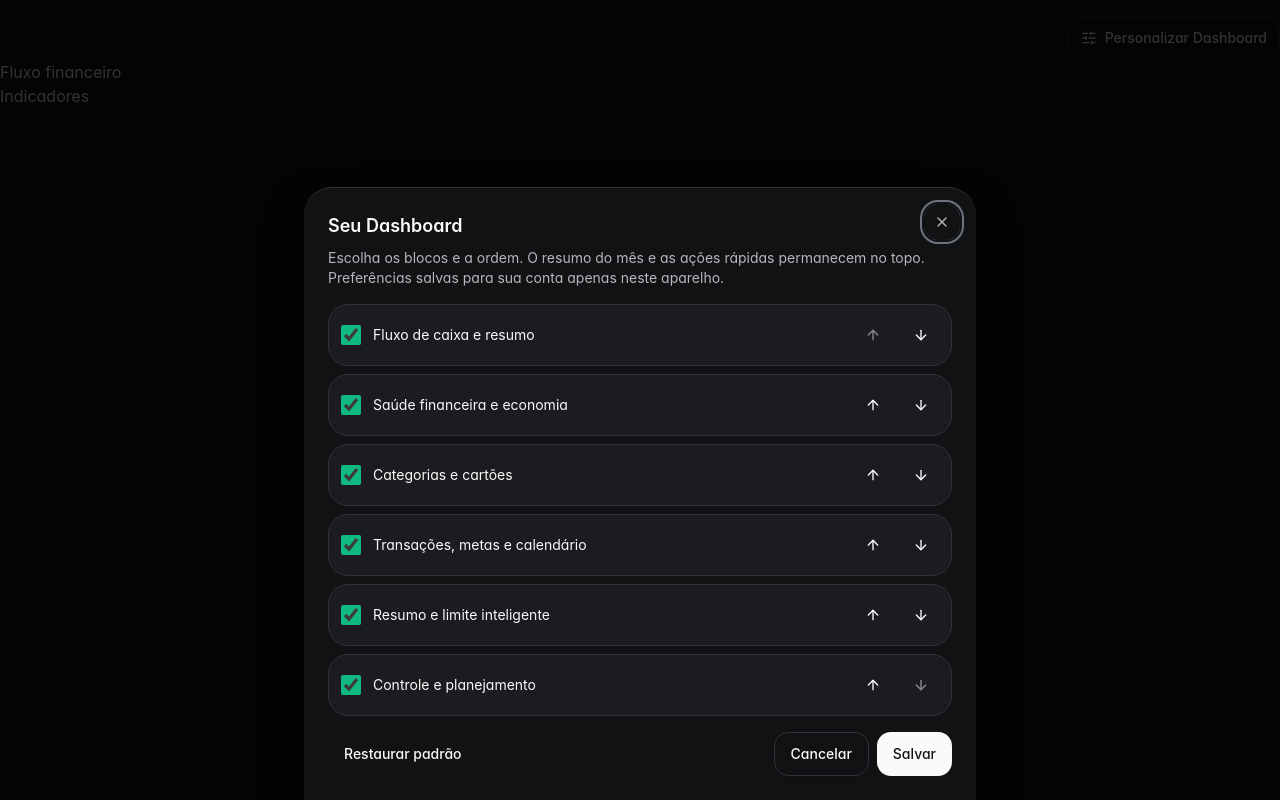
hide, reorder and save survive remount; cancel discards draft
Earlier steps of the test are not shown.
Later steps or results of the test are not shown.
Click the checkbox labelled "Fluxo de caixa e resumo" at coordinates (351, 335), box left=341, top=325, right=361, bottom=345
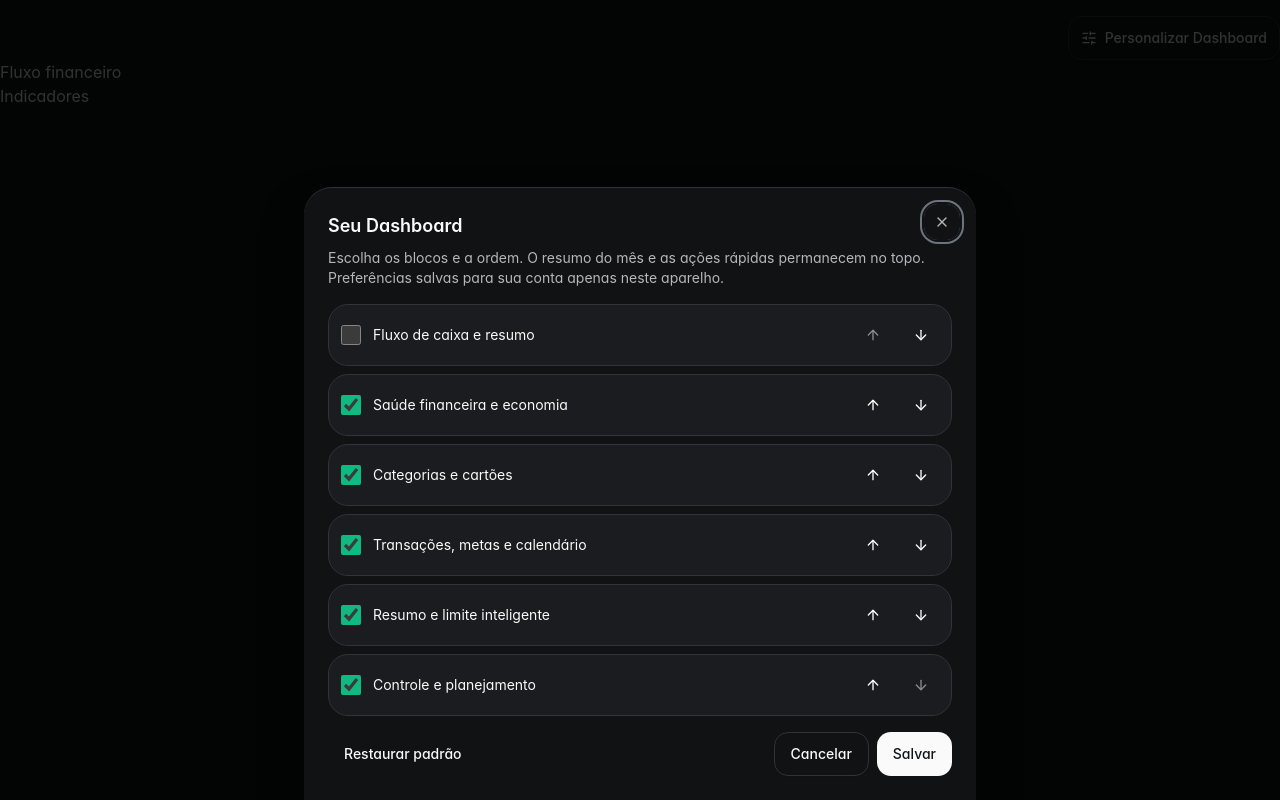
Click the button "Cancelar" at coordinates (821, 754), box left=774, top=732, right=869, bottom=776
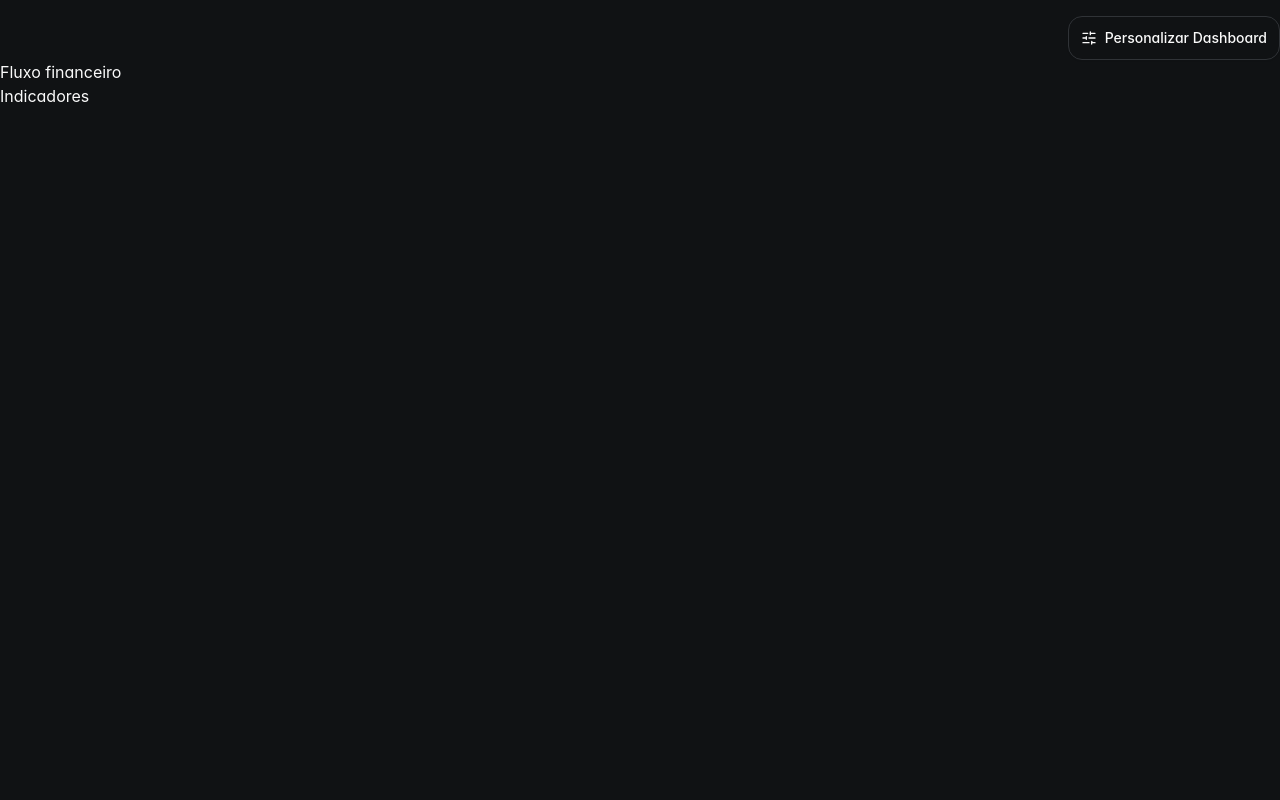
Check: the text "Fluxo financeiro" is shown, box left=0, top=62, right=122, bottom=82
Click the button "Personalizar Dashboard" at coordinates (1174, 38), box left=1068, top=16, right=1279, bottom=60
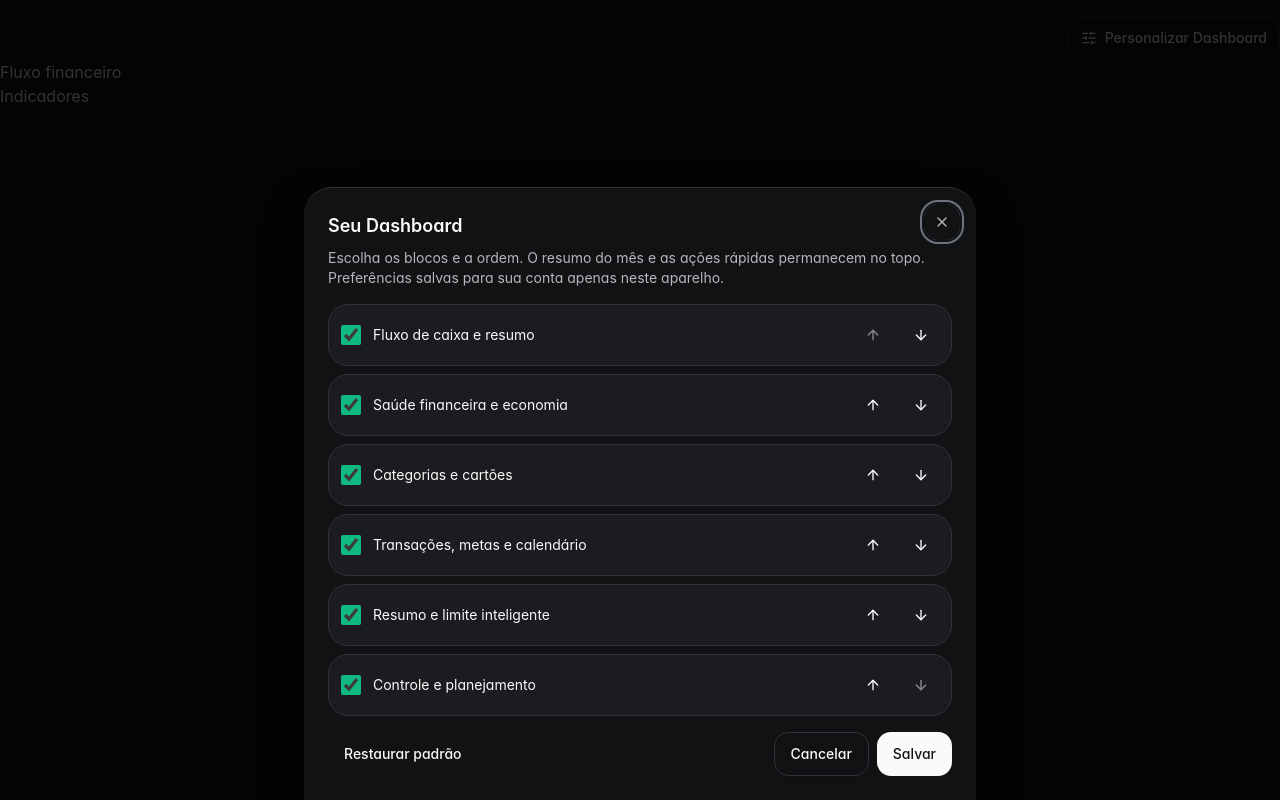
Click the button named "Descer Fluxo de caixa e resumo" at coordinates (921, 335), box left=899, top=313, right=943, bottom=357
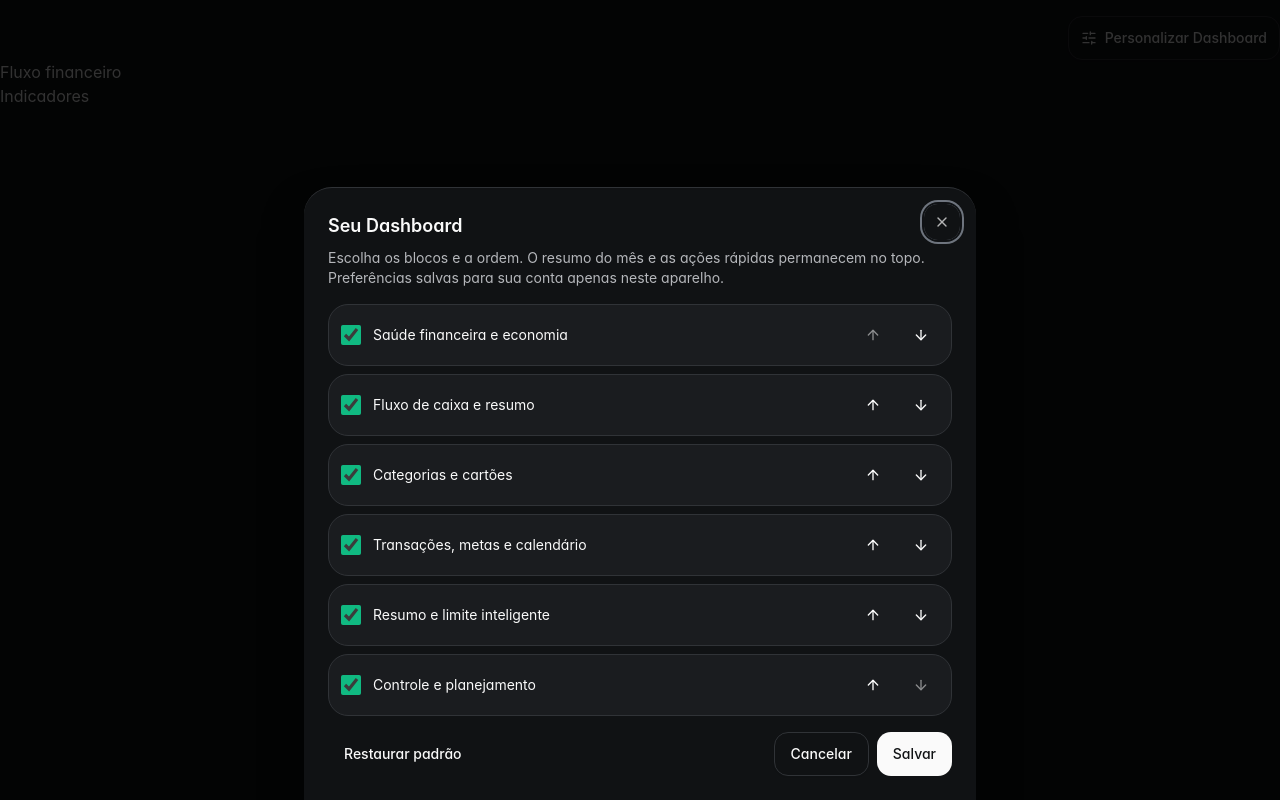
Click the checkbox labelled "Fluxo de caixa e resumo" at coordinates (351, 405), box left=341, top=395, right=361, bottom=415
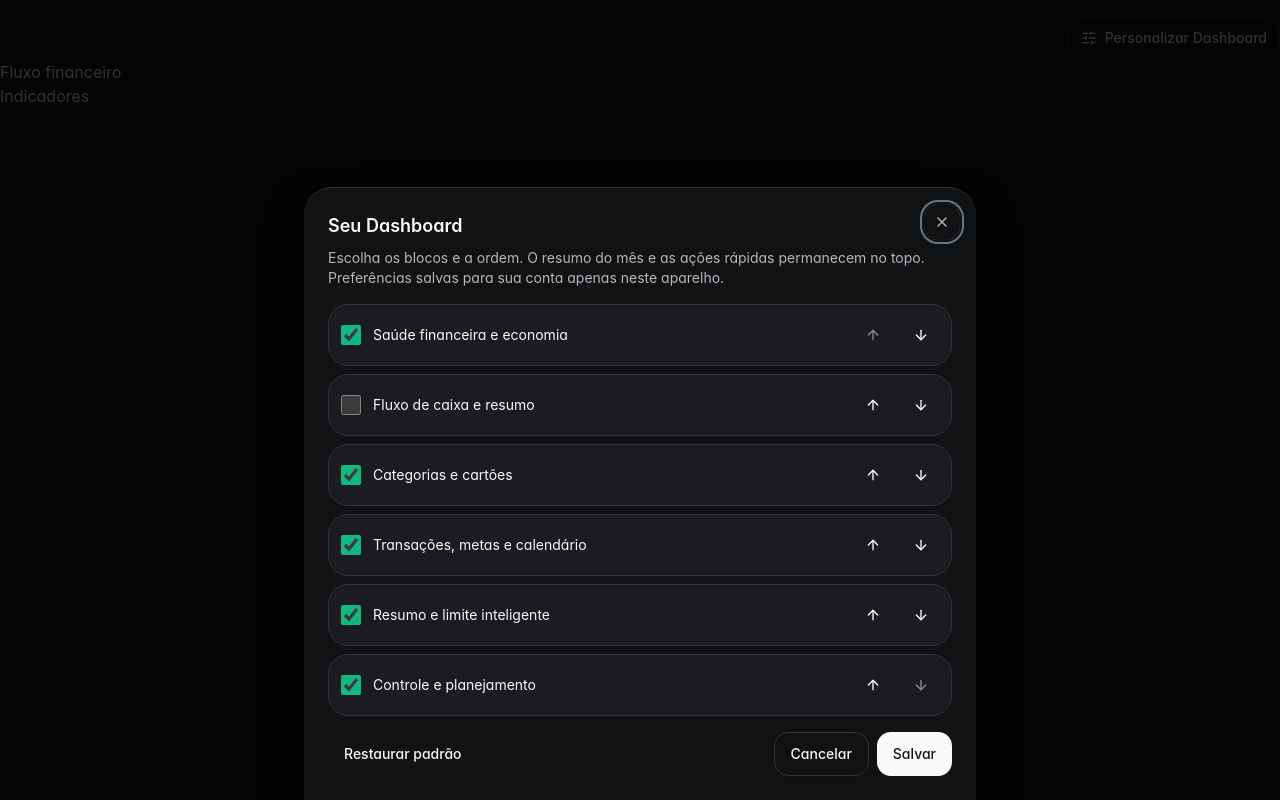
Click the button "Salvar" at coordinates (914, 754), box left=877, top=732, right=952, bottom=776
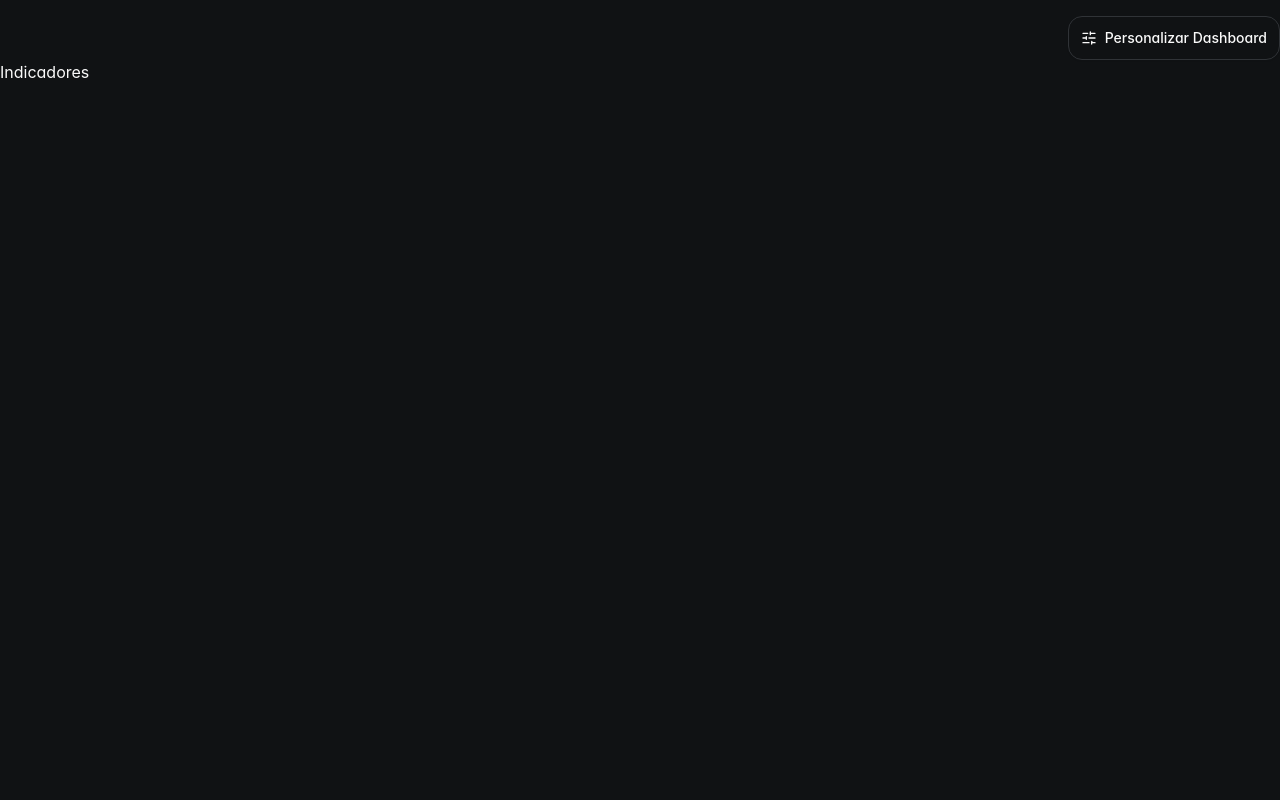
Check: the text "Fluxo financeiro" is gone
